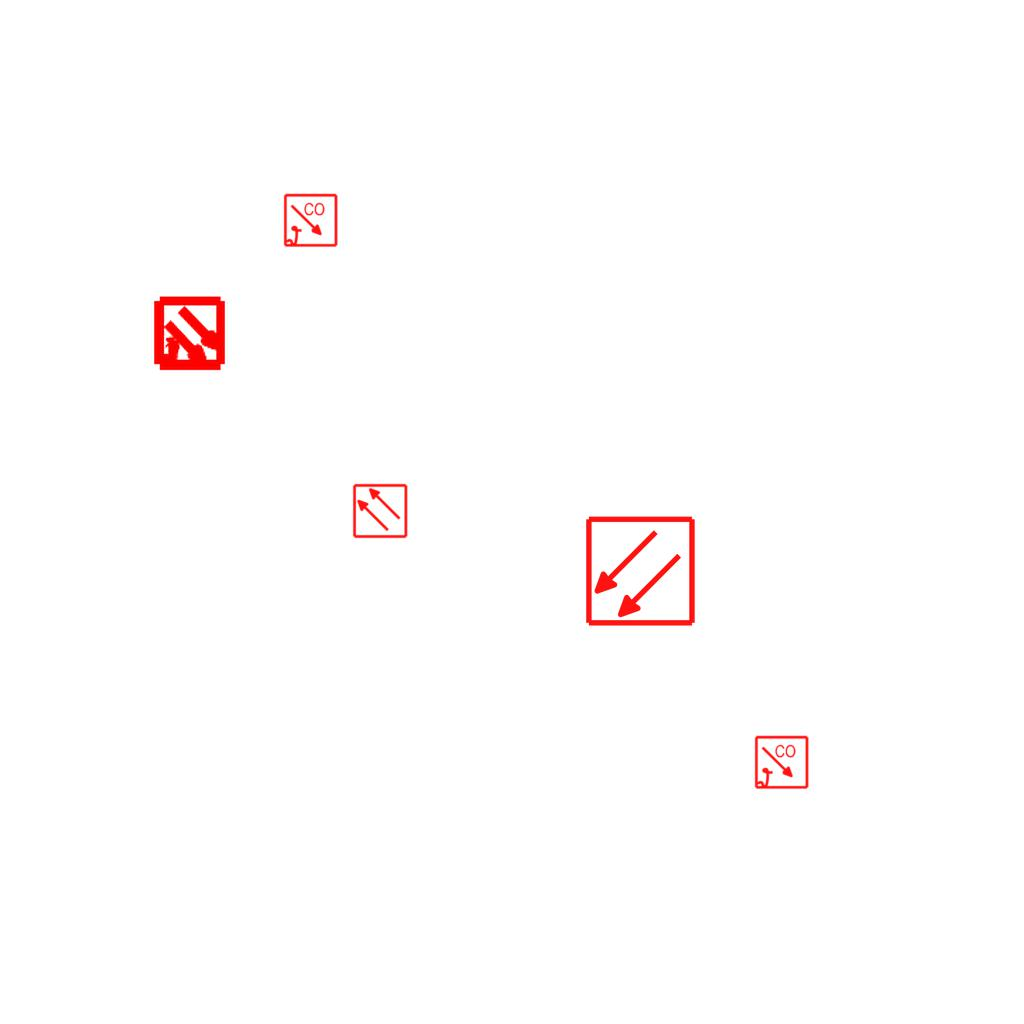OT_Multisensormelder_(Kombination_RMO_WMD): (133, 279, 246, 392)
RMO_Rauchmelder_optischer: (584, 515, 697, 628), (352, 483, 408, 539)
ROA_Rauchmelder_optisch_mit_Signalgeber_(Sockelsirene): (754, 735, 810, 791), (283, 193, 339, 249)
